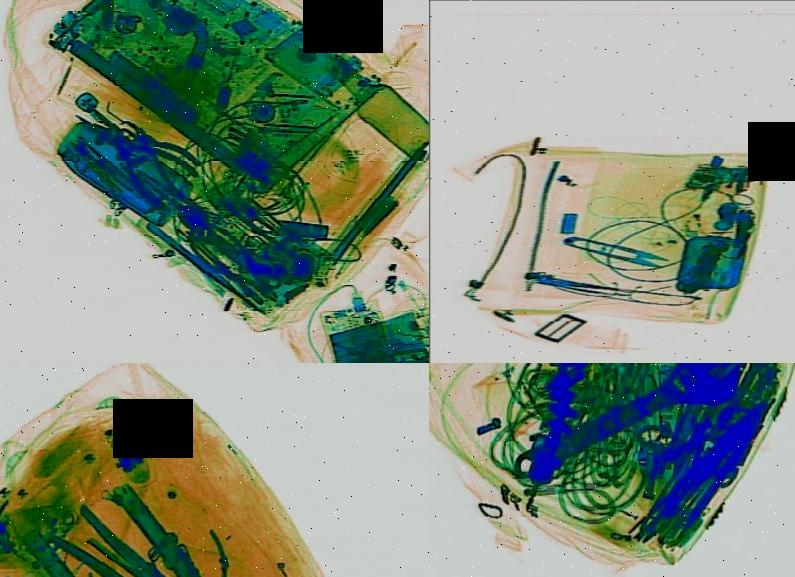Pliers: (658, 387, 780, 537), (63, 86, 203, 215), (35, 500, 268, 577), (186, 214, 296, 316), (112, 103, 204, 192)
Scissors: (563, 229, 671, 271)
Wrench: (506, 363, 751, 503)
